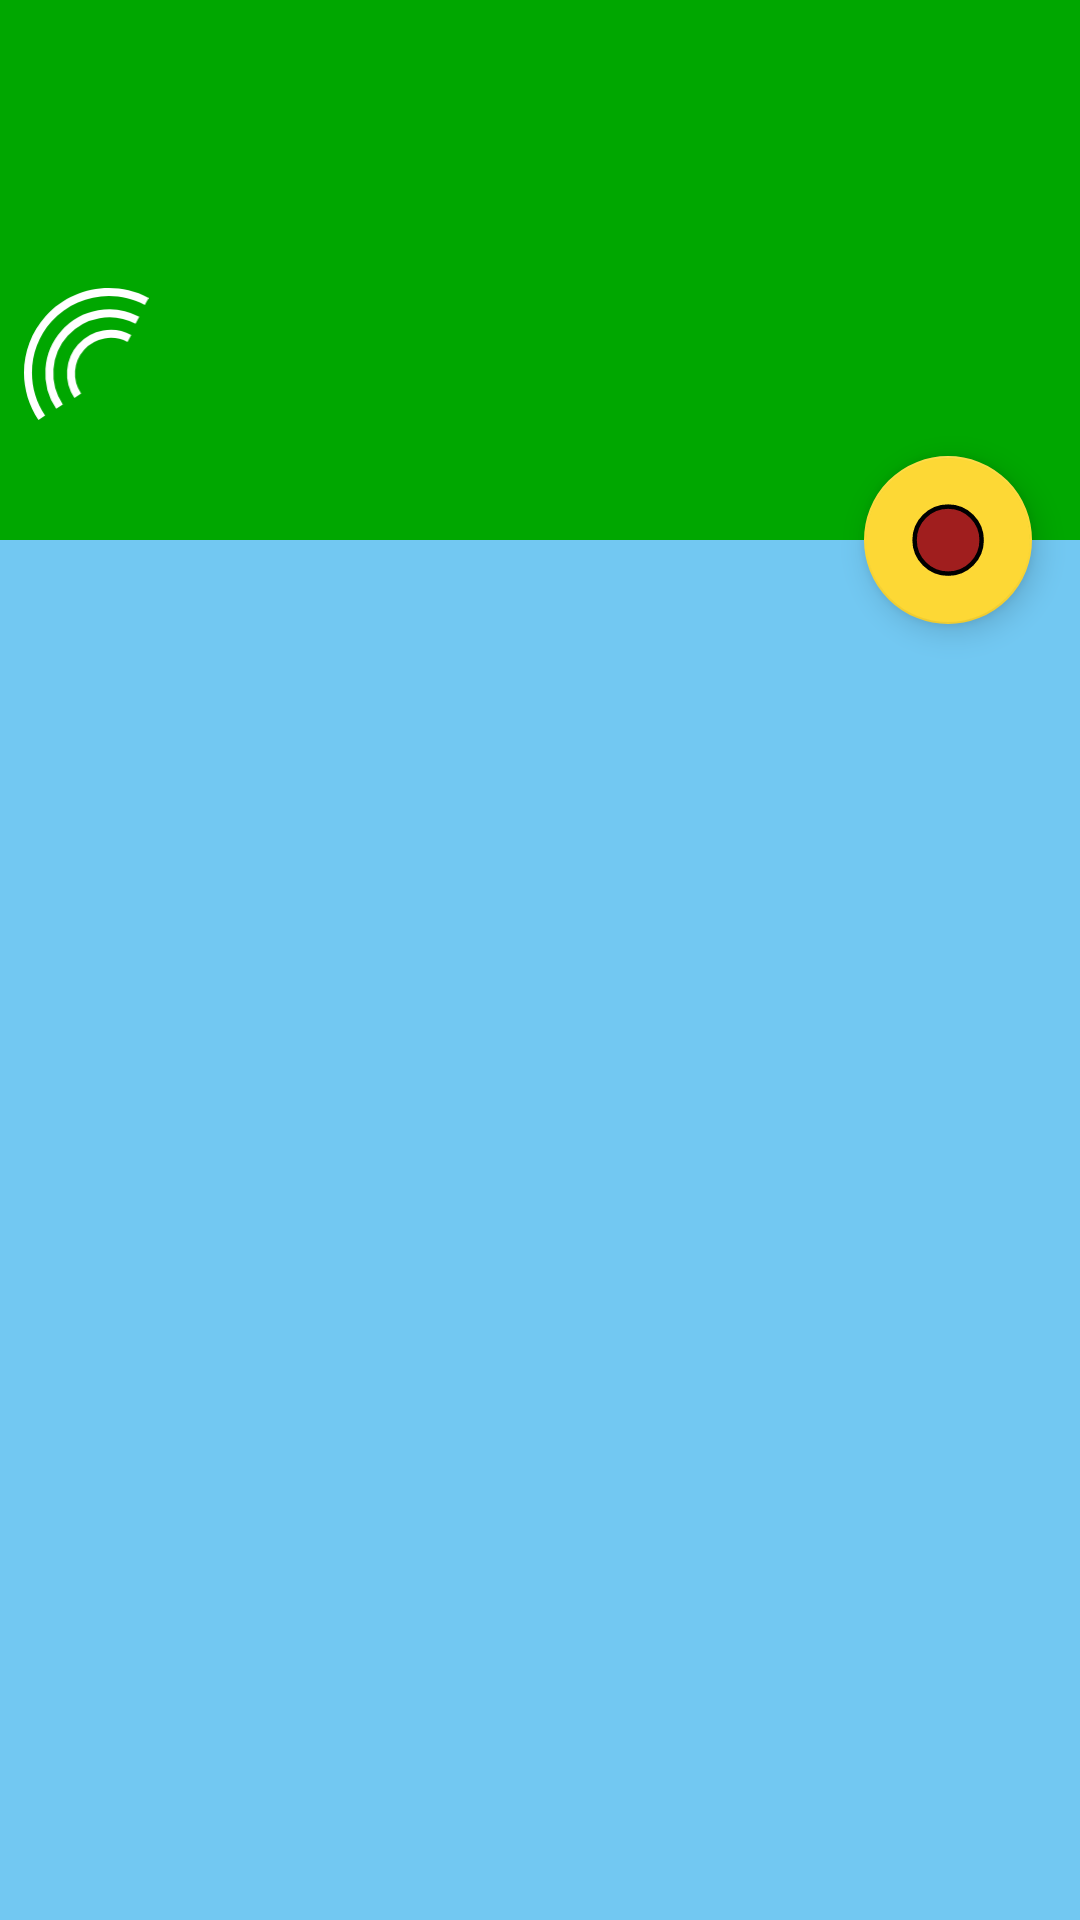

Named icons in this screenshot (1080px x 1920px) and their centers, point (x, y):
birdcall left: point (86, 354)
Record birdcall: point (948, 540)
